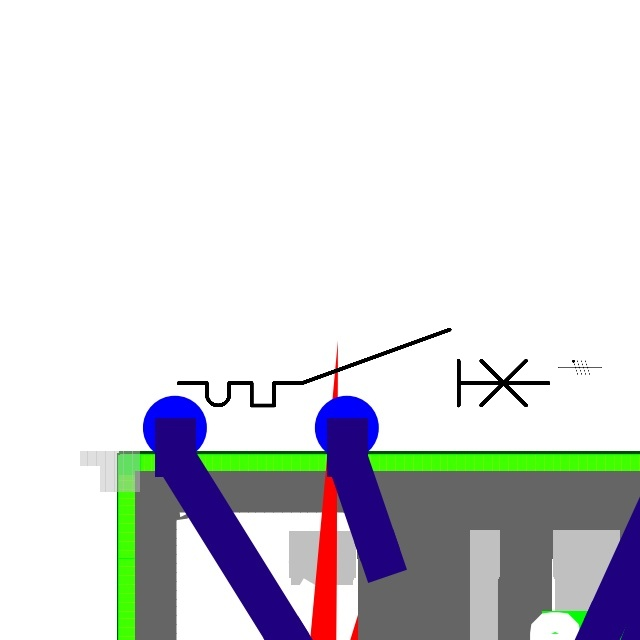interruptor_termomagnetico: (169, 320, 557, 415)
